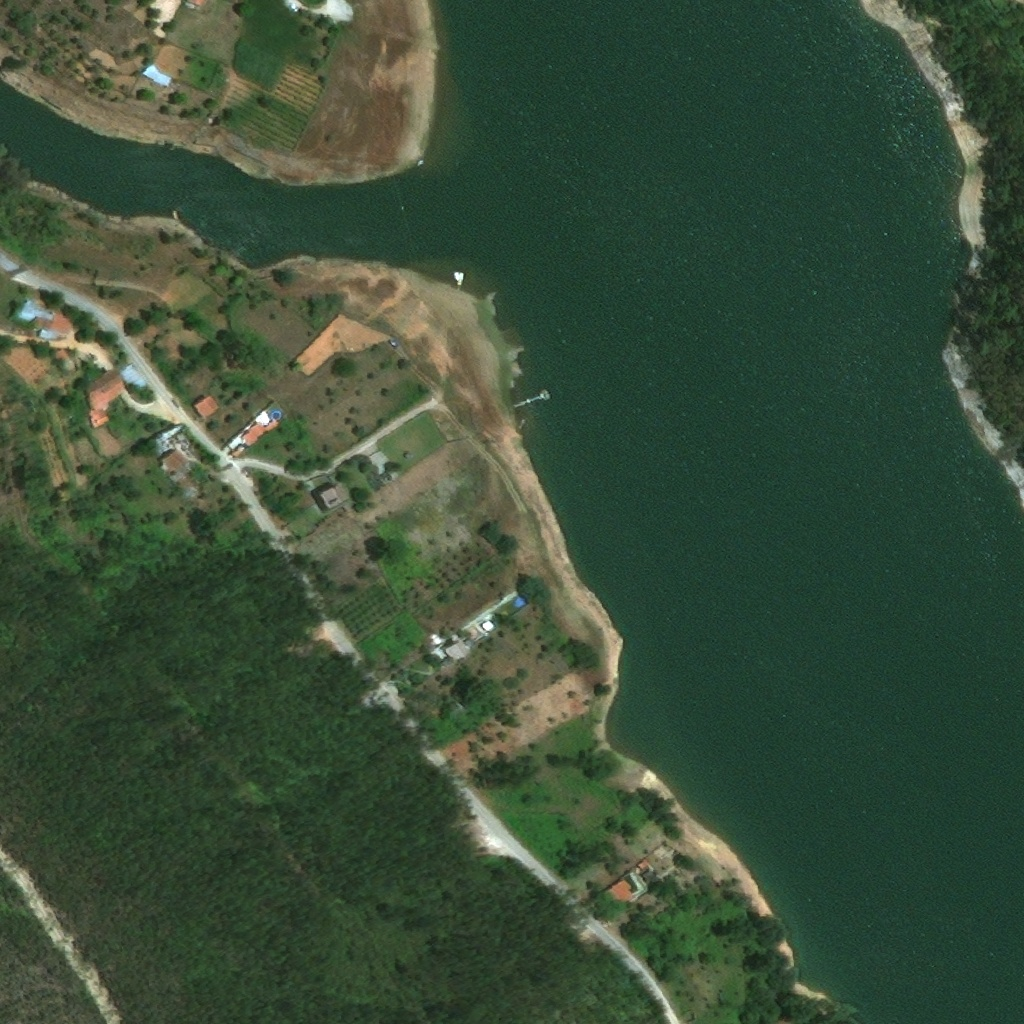0 no-damage: (9, 300, 73, 337), (79, 368, 124, 412), (238, 423, 275, 450), (152, 450, 184, 479), (307, 485, 337, 515), (141, 64, 173, 88), (190, 396, 219, 422), (118, 367, 144, 394), (599, 884, 625, 908), (442, 641, 467, 665), (636, 863, 659, 884), (84, 411, 107, 431), (49, 349, 70, 369), (478, 621, 494, 634), (187, 0, 205, 6)
